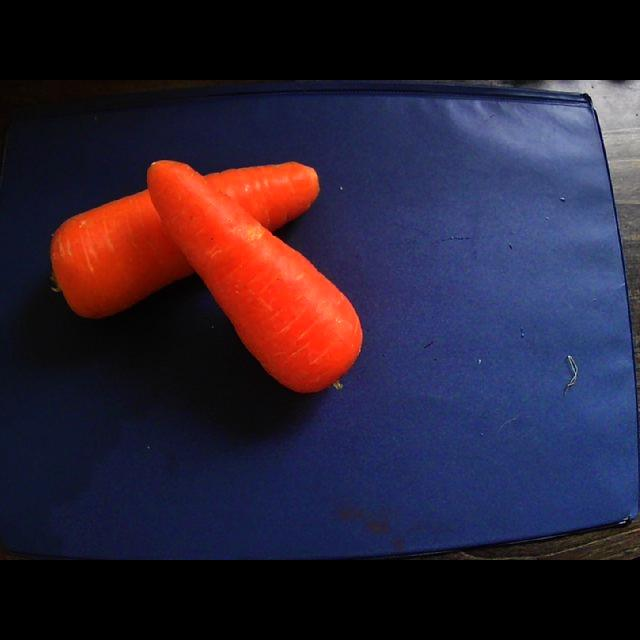zanahoria: (148, 160, 362, 393), (50, 190, 193, 318), (205, 162, 319, 231)
